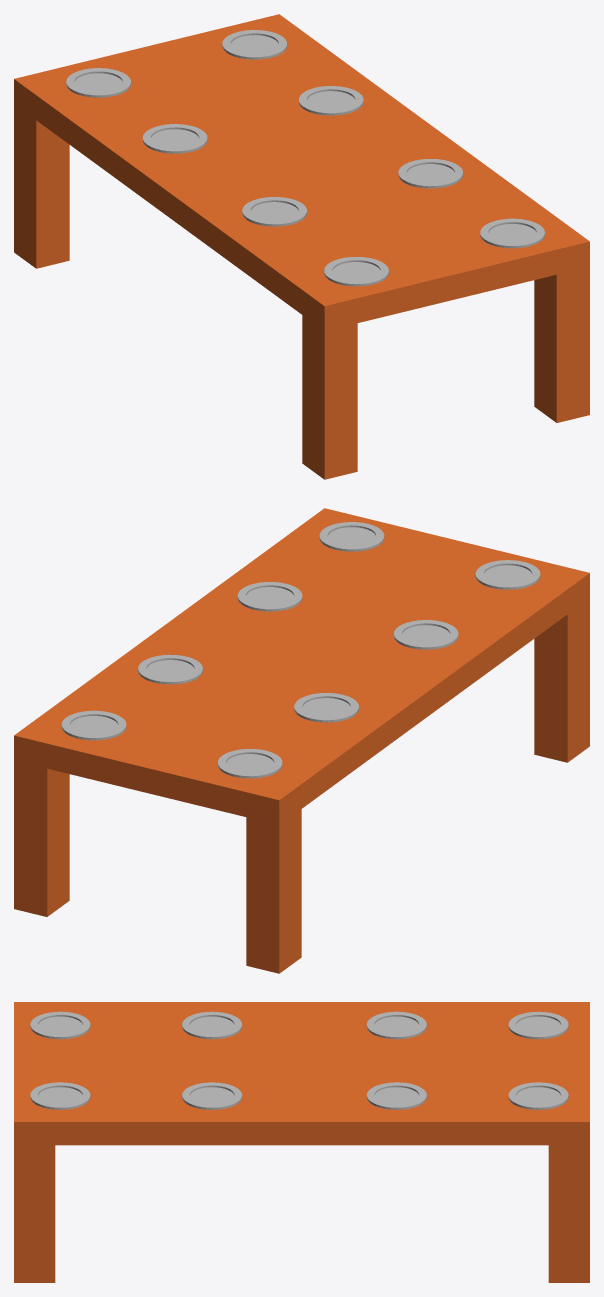
The model's file is table.fbx.
The picture shows the model from 3 angles, top to bottom: view 1: azimuth 30°, elevation 25°; view 2: azimuth 150°, elevation 25°; view 3: azimuth 270°, elevation 25°; orthographic projection. The views are drawn at different scales.
Parts seen in each view (by area): view 1: Cylinder.006; view 2: Cylinder.006; view 3: Cylinder.006.
Boxes of the visible parts, x1,y1,x2,y2 form: Cylinder.006: [14, 14, 589, 479]; Cylinder.006: [14, 508, 589, 973]; Cylinder.006: [14, 1002, 589, 1282].
Bounding box in the file's own units: 352 × 225 × 715.
